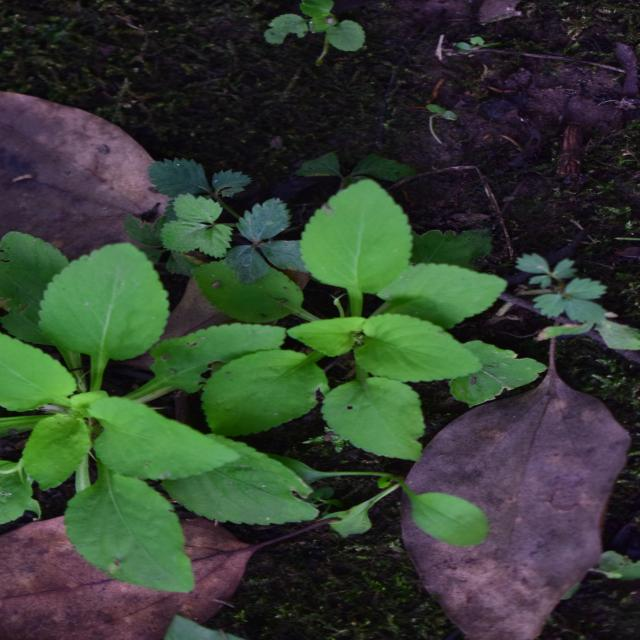Viola: (51, 7, 391, 237), (191, 218, 461, 507)
